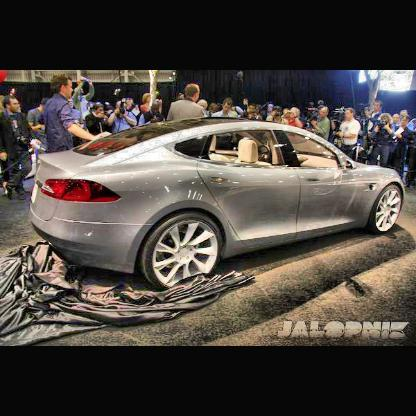Tesla Model S Sedan 2012: (31, 118, 406, 292)
